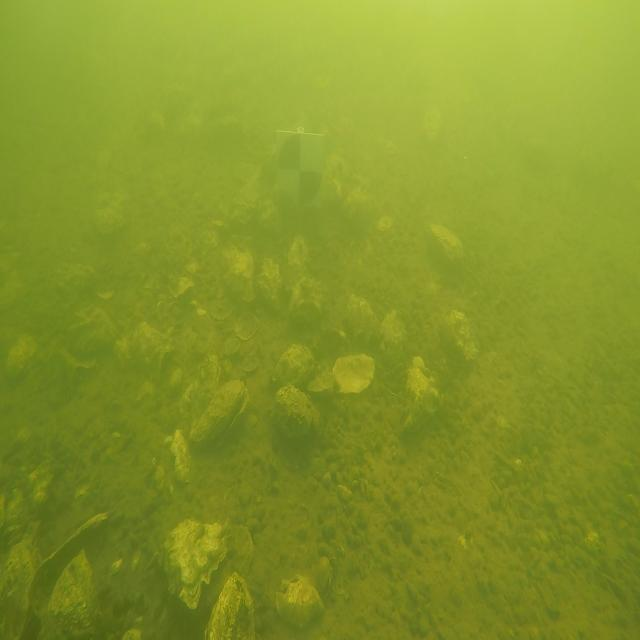Oyster-Closed: (165, 520, 229, 609), (0, 540, 34, 639), (205, 573, 255, 640), (115, 322, 172, 377), (404, 356, 440, 429), (69, 307, 118, 360), (276, 576, 324, 629), (272, 384, 319, 438), (426, 224, 464, 276), (272, 344, 316, 388), (92, 191, 128, 240), (289, 278, 322, 329), (225, 247, 254, 302), (446, 311, 478, 360), (348, 296, 380, 342), (381, 311, 406, 360), (258, 258, 281, 311), (286, 236, 309, 288)
Oyster-Open: (20, 513, 108, 640), (190, 380, 249, 447), (309, 353, 375, 393)
